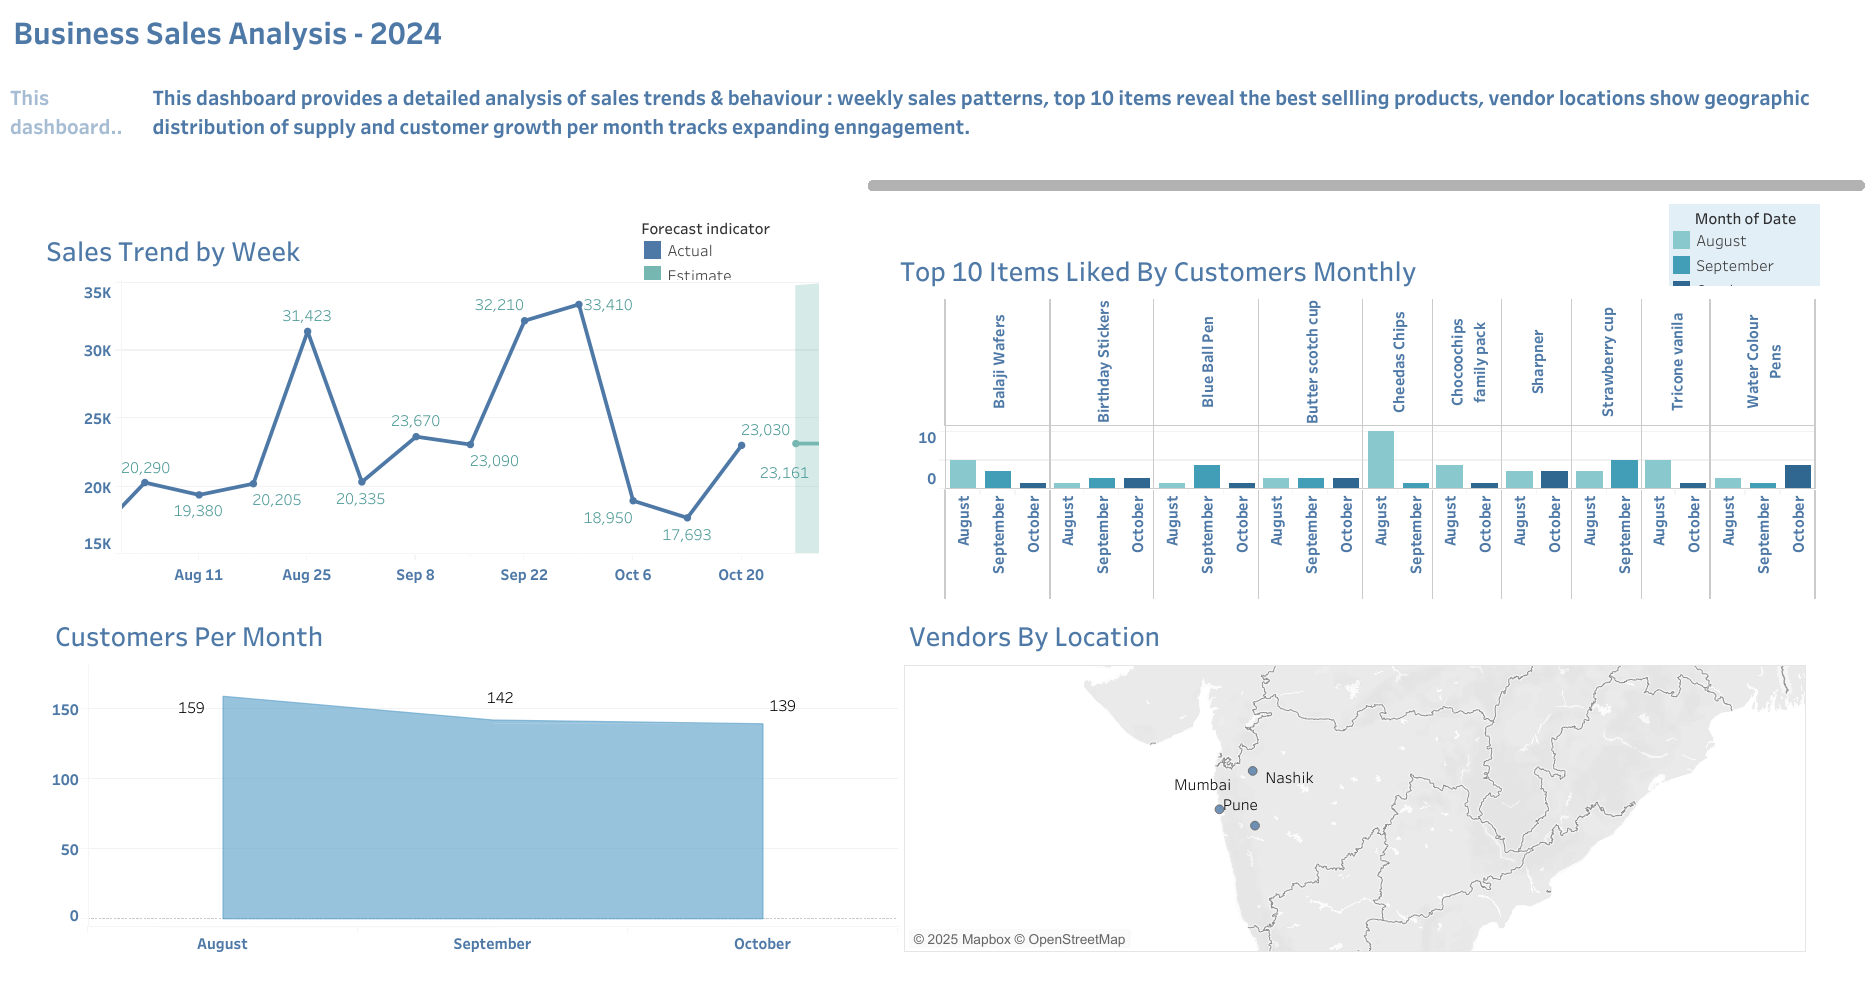

The page's visual inventory and layout, read from the dashboard file:
{"tool":"tableau","page":{"name":"Insights & Deep Dive","canvas":[1000,1000],"units":"permille","ordinal":0},"visuals":[{"type":"legend","title":"Top 10 Items Liked By Customer Monthly","param":"[federated.0jc70l60h2s9l31242iqz0aohkgw].[mn:Date:ok]","box":[894,7.5,82,105]},{"type":"legend","title":"Sales Trend Per Week","param":"[federated.0jc70l60h2s9l31242iqz0aohkgw].[none:Forecast Indicator:nk]","box":[339.3,21.2,93.3,82.5]},{"type":"worksheet","title":"Sales Trend Per Week","mark":"Line","rows":["Calculation_5567293632888057858"],"cols":["Date"],"box":[16.7,35,419.3,462.5]},{"type":"worksheet","title":"Top 10 Items Liked By Customer Monthly","mark":"Bar","rows":["Customers_3831CDE7F26244BC95570D6D3AE9A1DF"],"cols":["Item Name","Date"],"box":[477.3,60,496.7,447.5]},{"type":"worksheet","title":"Customers Per Month","mark":"Area","rows":["Customers_3831CDE7F26244BC95570D6D3AE9A1DF"],"cols":["Date"],"box":[21.3,520,457.3,433.8]},{"type":"worksheet","title":"Vendors By Location","mark":"Multipolygon","box":[482,521.2,486,431.2]}]}

Visuals, with their boxes on the dashboard's canvas, which has no fixed pixel size, in thousandths of its width and height (x1, y1, x2, y2). These are canvas units, not pixel positions in the 1874x999 screenshot, which may show the page scaled, cropped or inside an application window:
"Top 10 Items Liked By Customer Monthly" legend: 894, 8, 976, 112
"Sales Trend Per Week" legend: 339, 21, 433, 104
"Sales Trend Per Week" worksheet (Line marks): 17, 35, 436, 498
"Top 10 Items Liked By Customer Monthly" worksheet (Bar marks): 477, 60, 974, 508
"Customers Per Month" worksheet (Area marks): 21, 520, 479, 954
"Vendors By Location" worksheet (Multipolygon marks): 482, 521, 968, 952
